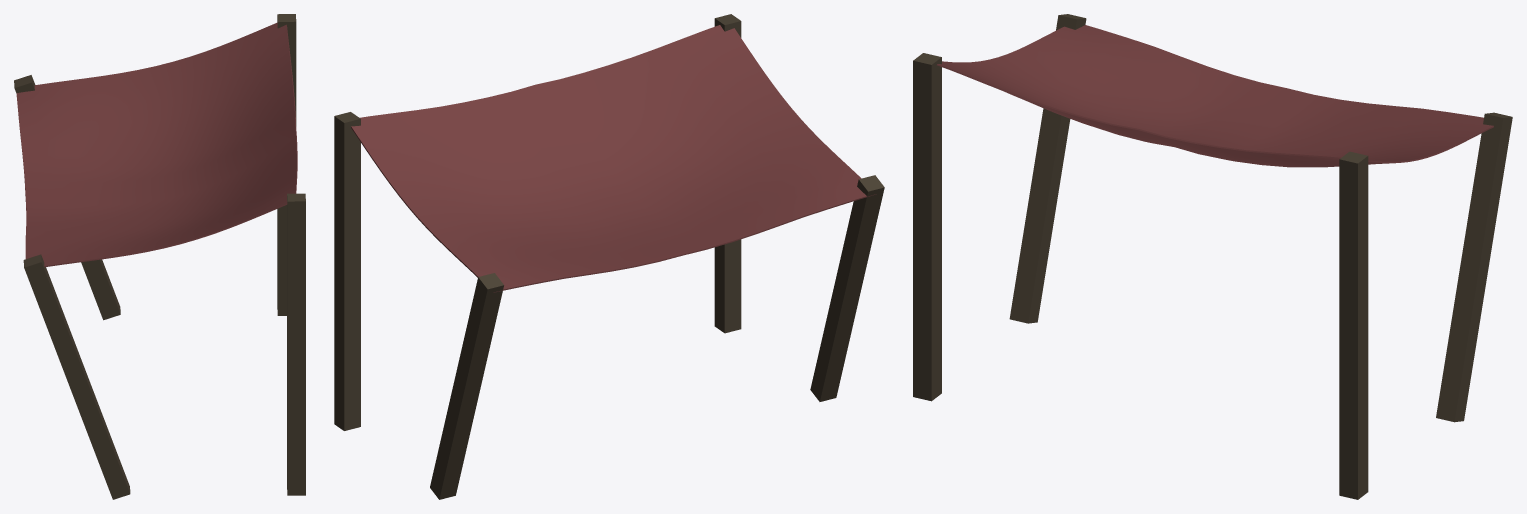
The model's file is market.fbx.
3 renders of one model, left to right at view 1: azimuth 30°, elevation 25°; view 2: azimuth 150°, elevation 25°; view 3: azimuth 270°, elevation 25°, orthographic. The views are drawn at different scales.
Parts seen in each view (by area): view 1: market; view 2: market; view 3: market.
Part boxes in pixels (box(x1,y1,x2,y2)): market: box(14, 14, 305, 499); market: box(334, 14, 884, 499); market: box(913, 14, 1512, 499).
Size of the model in its own units: 271 by 193 by 309.
